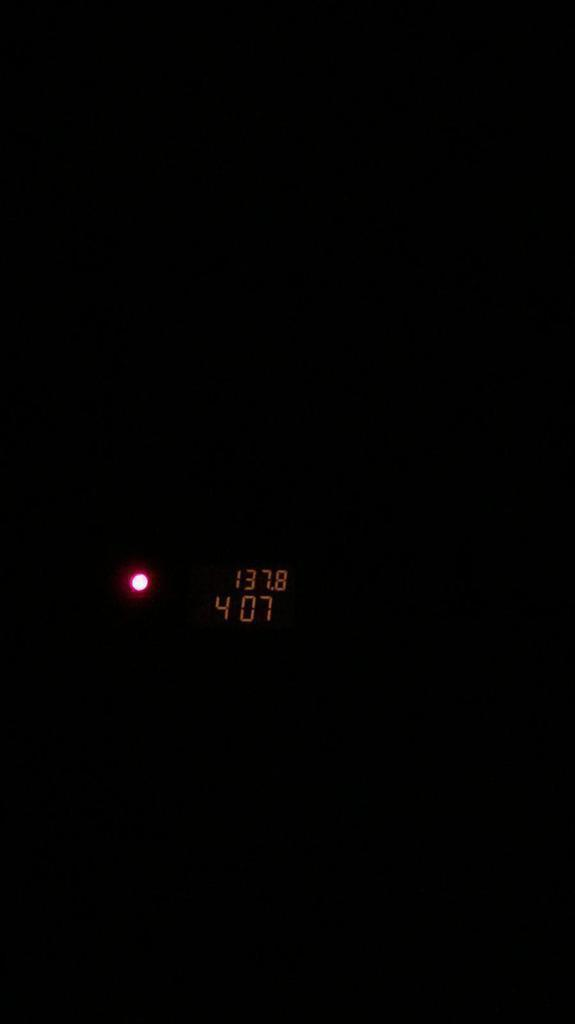,: (271, 586, 274, 591)
0: (238, 594, 257, 622)
1: (233, 568, 242, 589)
3: (243, 568, 257, 591)
4: (213, 594, 231, 620)
7: (258, 594, 273, 622), (260, 567, 271, 590)
8: (274, 568, 287, 591)
odometer: (184, 555, 304, 634)
